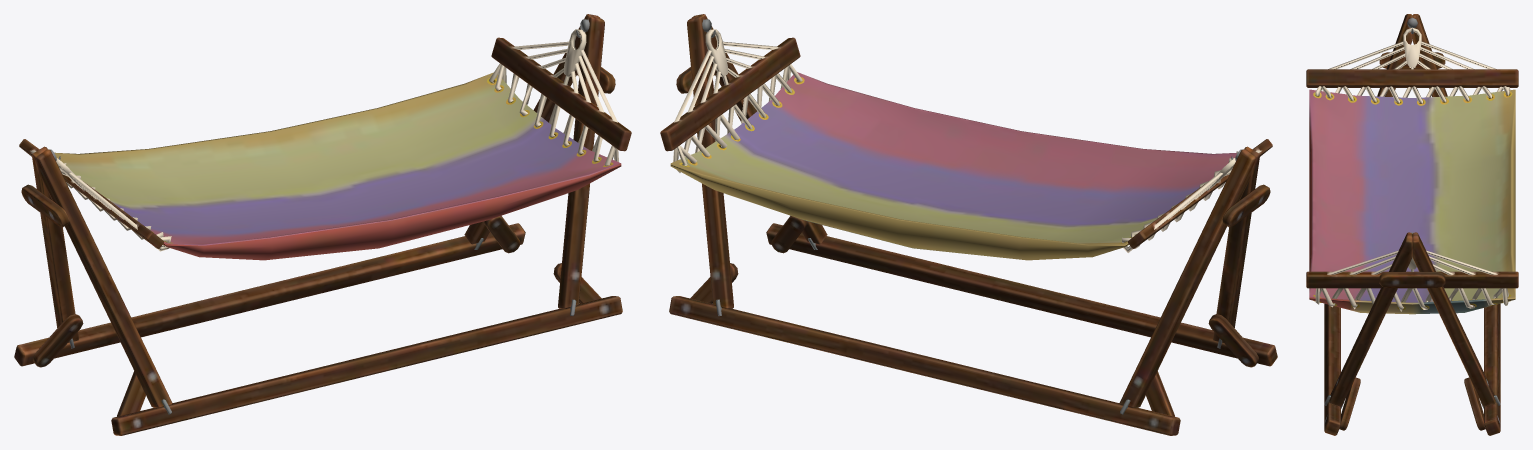
3 renders of one model, left to right at view 1: azimuth 30°, elevation 25°; view 2: azimuth 150°, elevation 25°; view 3: azimuth 270°, elevation 25°, orthographic. The views are drawn at different scales.
Size of the model in its own units: 19.82 by 8.63 by 7.8.
3 materials, 3 textured.
